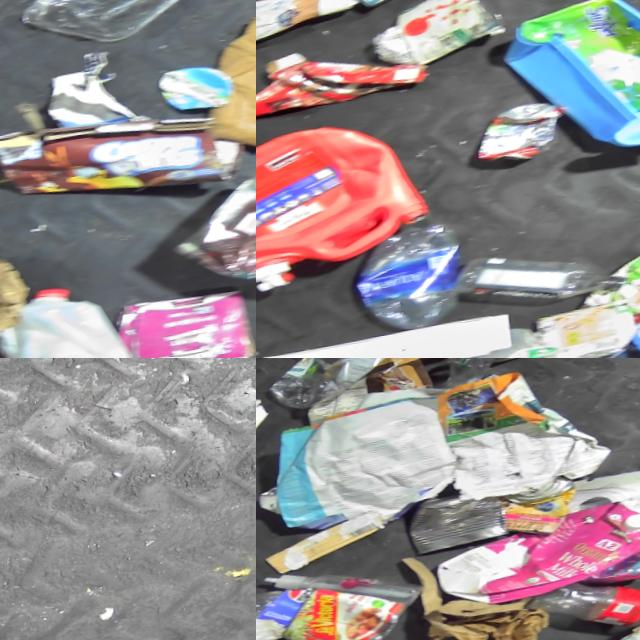can: (168, 155, 256, 309), (370, 0, 511, 74), (408, 489, 516, 558), (474, 101, 575, 172), (537, 300, 640, 358), (499, 477, 582, 545)
milk_jug: (0, 275, 149, 358), (417, 324, 567, 358)
non_white_jug: (256, 108, 450, 296), (492, 0, 640, 176), (431, 497, 640, 617), (118, 284, 256, 358), (579, 220, 640, 334)
plastic_bottle: (458, 236, 636, 322), (355, 223, 473, 339), (262, 358, 415, 416), (527, 568, 640, 640)
